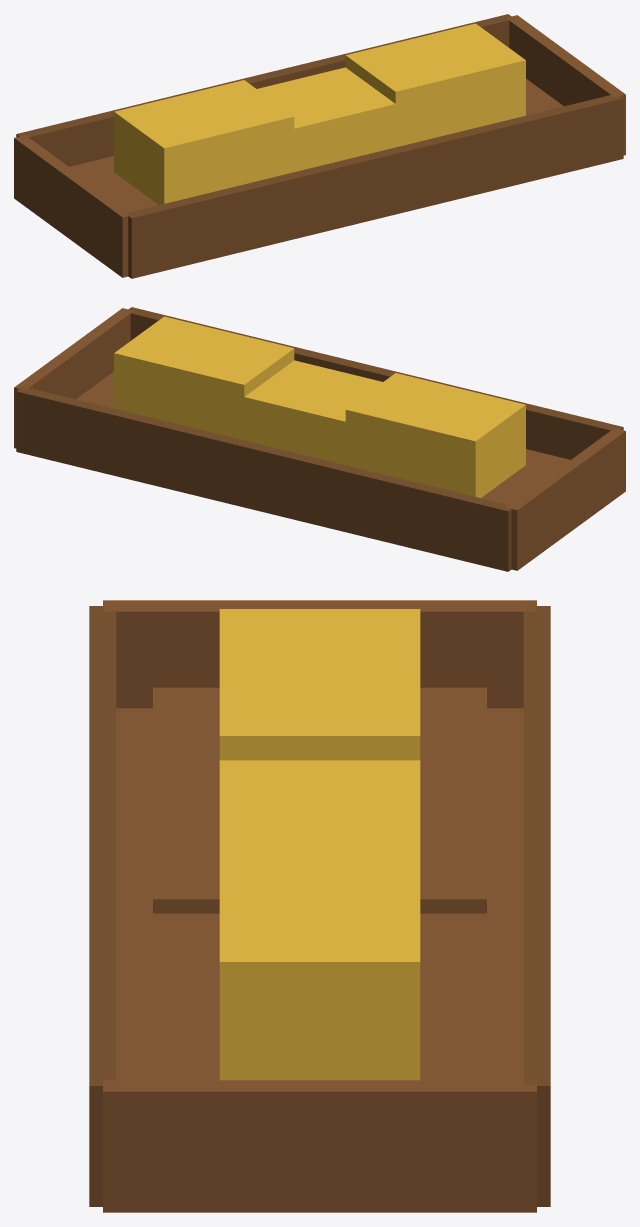
The model's file is Bread_Corn.fbx.
The picture shows the model from 3 angles, top to bottom: view 1: azimuth 30°, elevation 25°; view 2: azimuth 150°, elevation 25°; view 3: azimuth 270°, elevation 25°; orthographic projection. The views are drawn at different scales.
Visible parts, largest first — view 1: Bread_Corn__Stack, Bread_Corn; view 2: Bread_Corn__Stack, Bread_Corn; view 3: Bread_Corn__Stack, Bread_Corn.
Boxes of the visible parts, box(x1,y1,x2,y2) form: Bread_Corn__Stack: box(14, 14, 625, 278); Bread_Corn: box(257, 67, 395, 175); Bread_Corn__Stack: box(14, 307, 625, 571); Bread_Corn: box(244, 360, 382, 468); Bread_Corn__Stack: box(89, 600, 550, 1212); Bread_Corn: box(219, 760, 420, 834).
Size of the model in its own units: 0.348 by 0.06 by 0.138.
